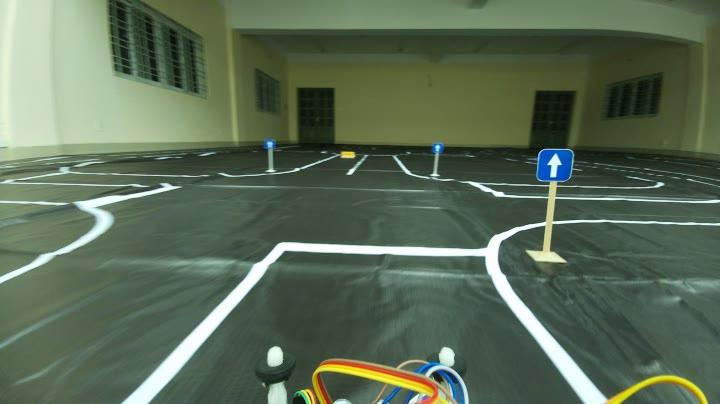onewayroad: (534, 146, 574, 185), (262, 134, 277, 147), (430, 142, 442, 156)
roadblock: (336, 149, 374, 166)
